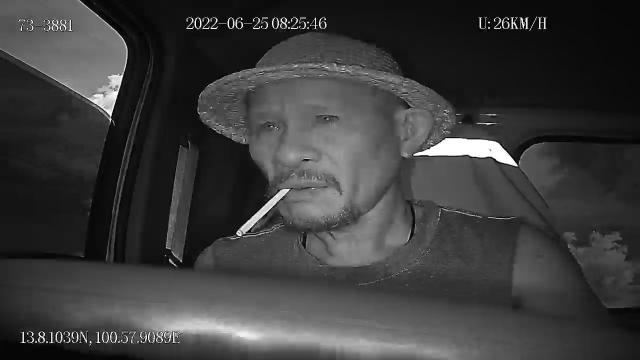SafeDriving: (306, 103, 344, 129), (254, 112, 290, 138)
Smoking: (236, 188, 290, 238)
